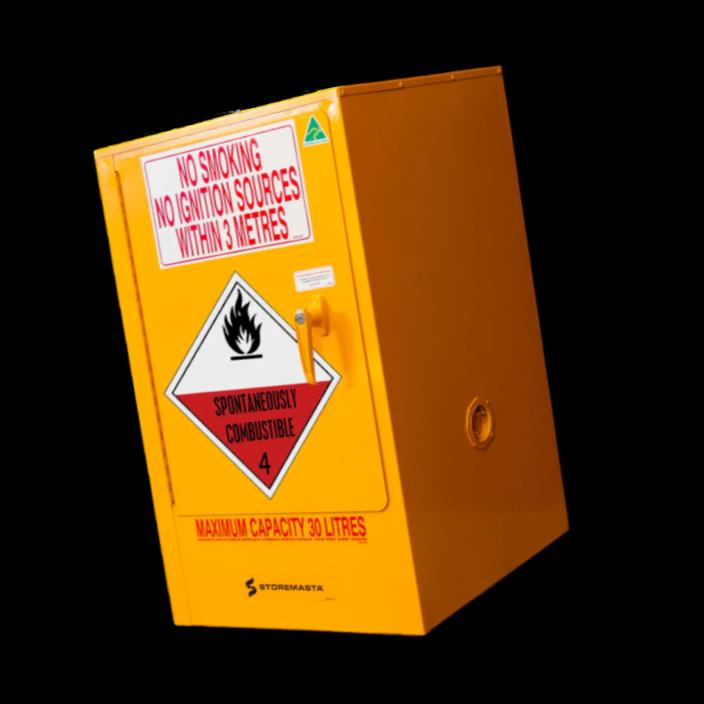charging station: (166, 272, 340, 498)
